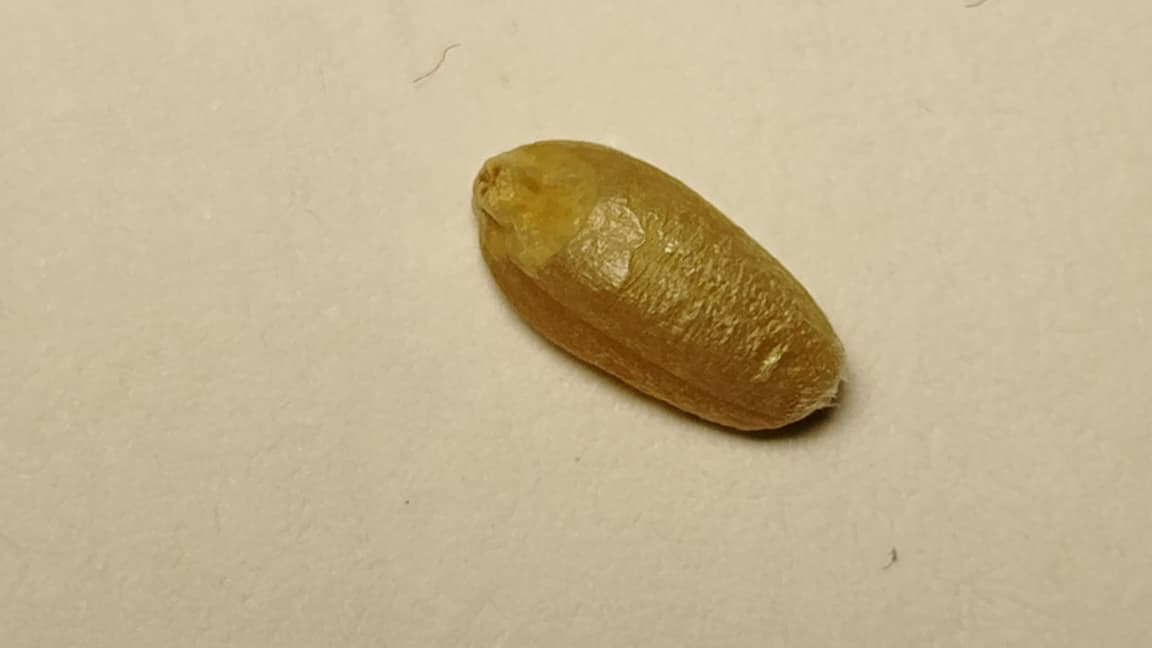healthy: (473, 140, 844, 431)
